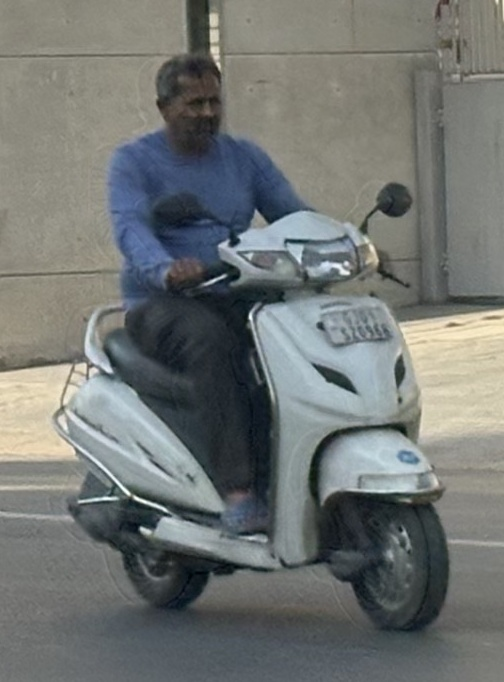BikeWithRider: (41, 40, 462, 640)
NoHelmet: (142, 47, 238, 152)
